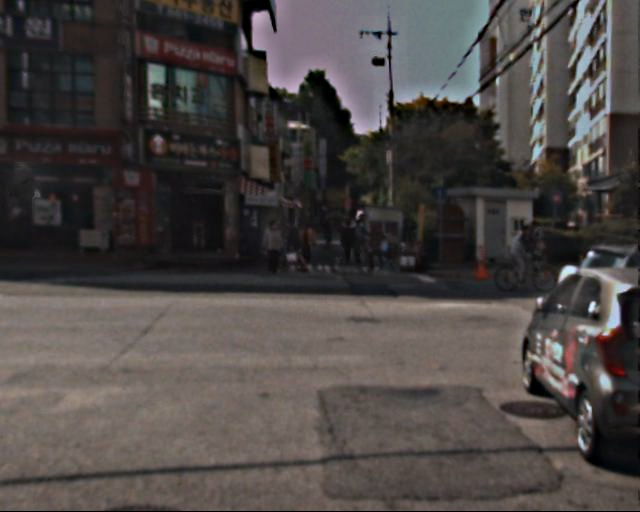person: (369, 217, 393, 276), (512, 225, 535, 282), (284, 215, 307, 271), (298, 218, 319, 269), (529, 216, 550, 267), (267, 222, 287, 270), (353, 216, 373, 264), (340, 216, 359, 263), (384, 230, 402, 274), (325, 209, 339, 244)
